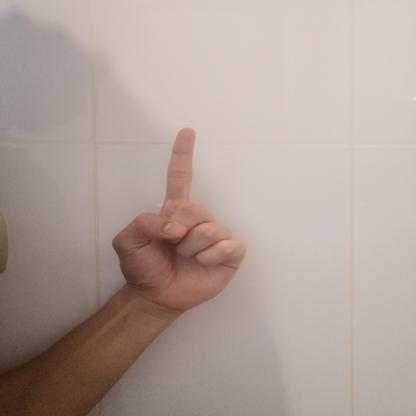BAA: (101, 118, 257, 317)
